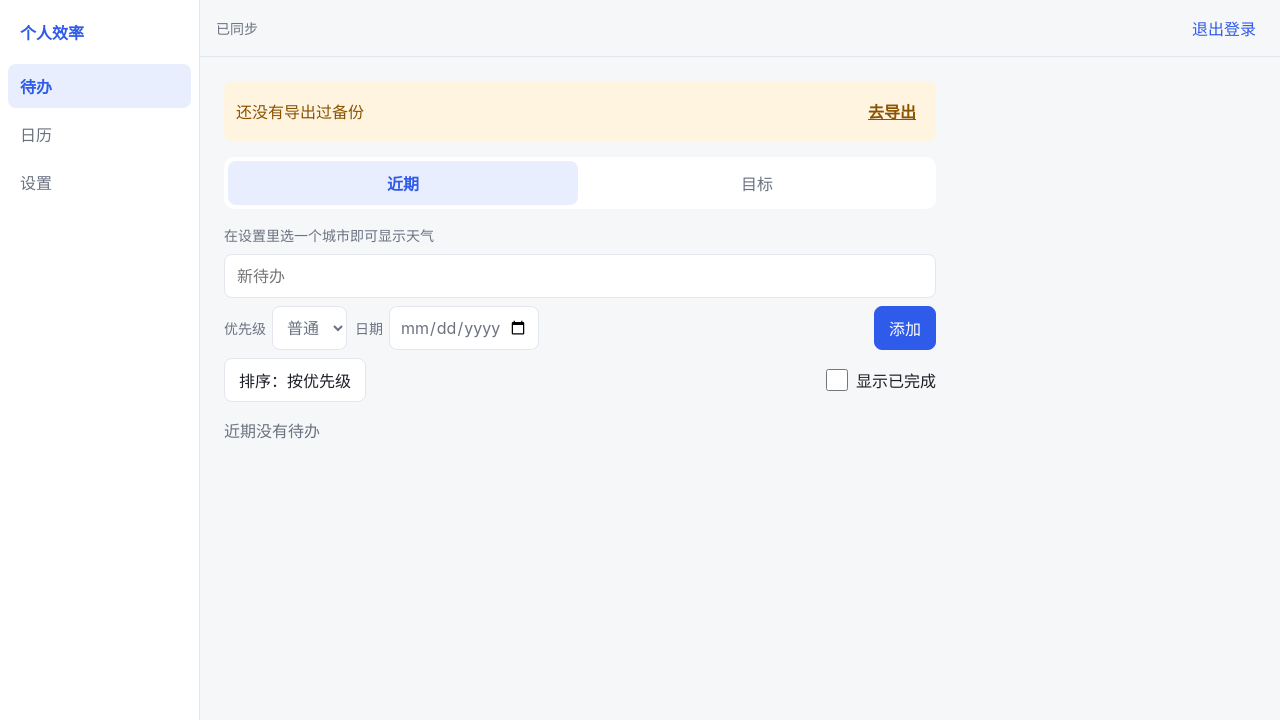
Test: App: edges › has 待办 and 设置 navigation items
expect the button "待办" is shown: met, box x1=8 y1=64 x2=191 y2=108
Click the button "设置" at [100, 182], box x1=8 y1=160 x2=191 y2=204
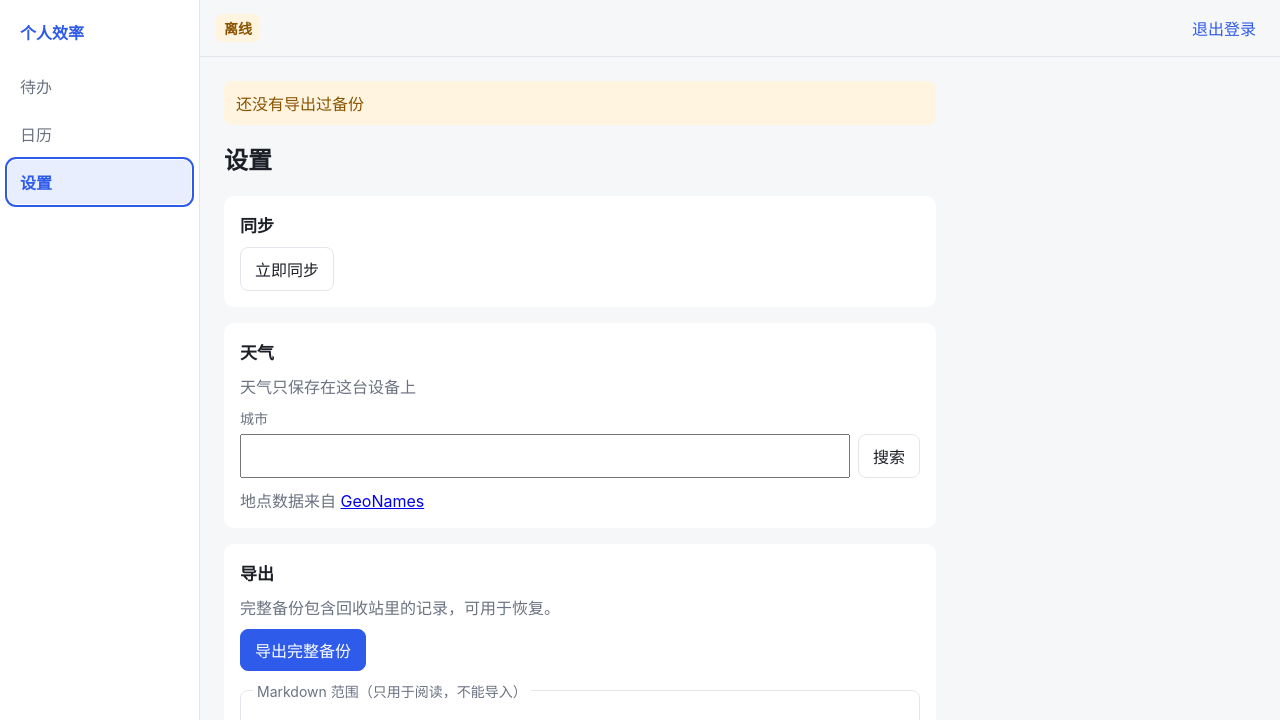
expect the button "导出完整备份" is shown: met, box x1=240 y1=629 x2=366 y2=671
